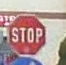stop: (6, 12, 47, 54)
